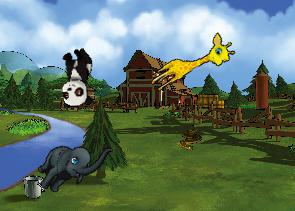elephant: (30, 121, 114, 209)
giraffe: (146, 29, 238, 102)
panda: (59, 47, 93, 108)
